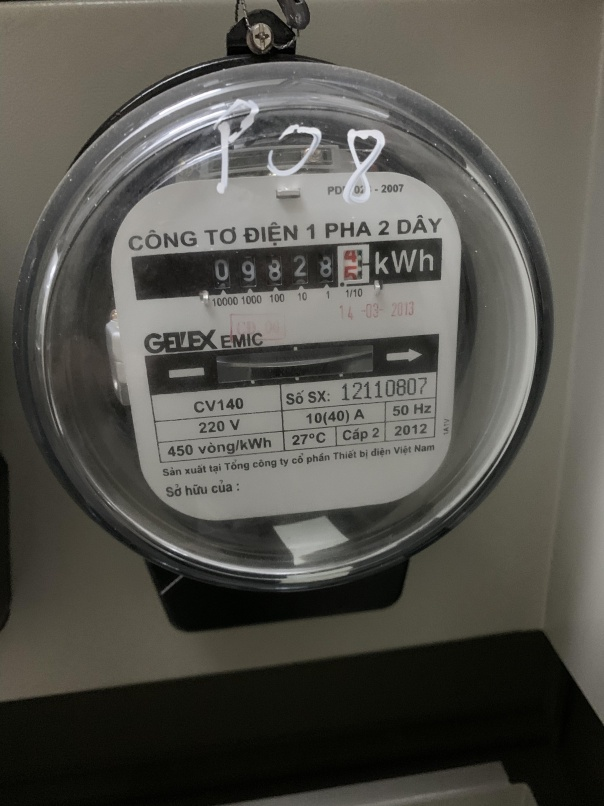counter: (134, 239, 451, 300)
electricity_meter: (13, 63, 557, 588)
